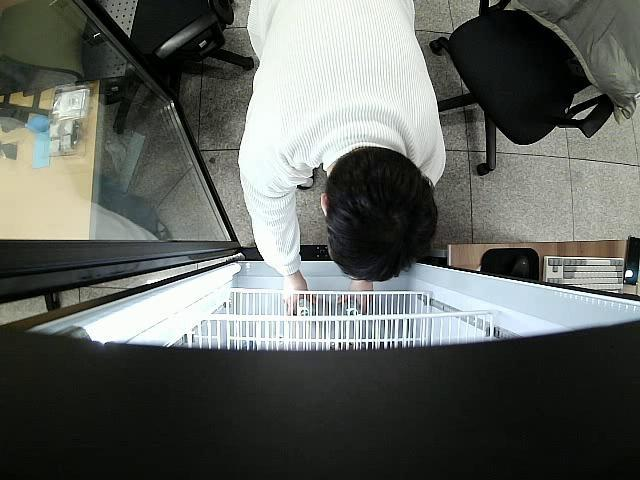18_trevi: (296, 298, 318, 316), (340, 298, 361, 316)
